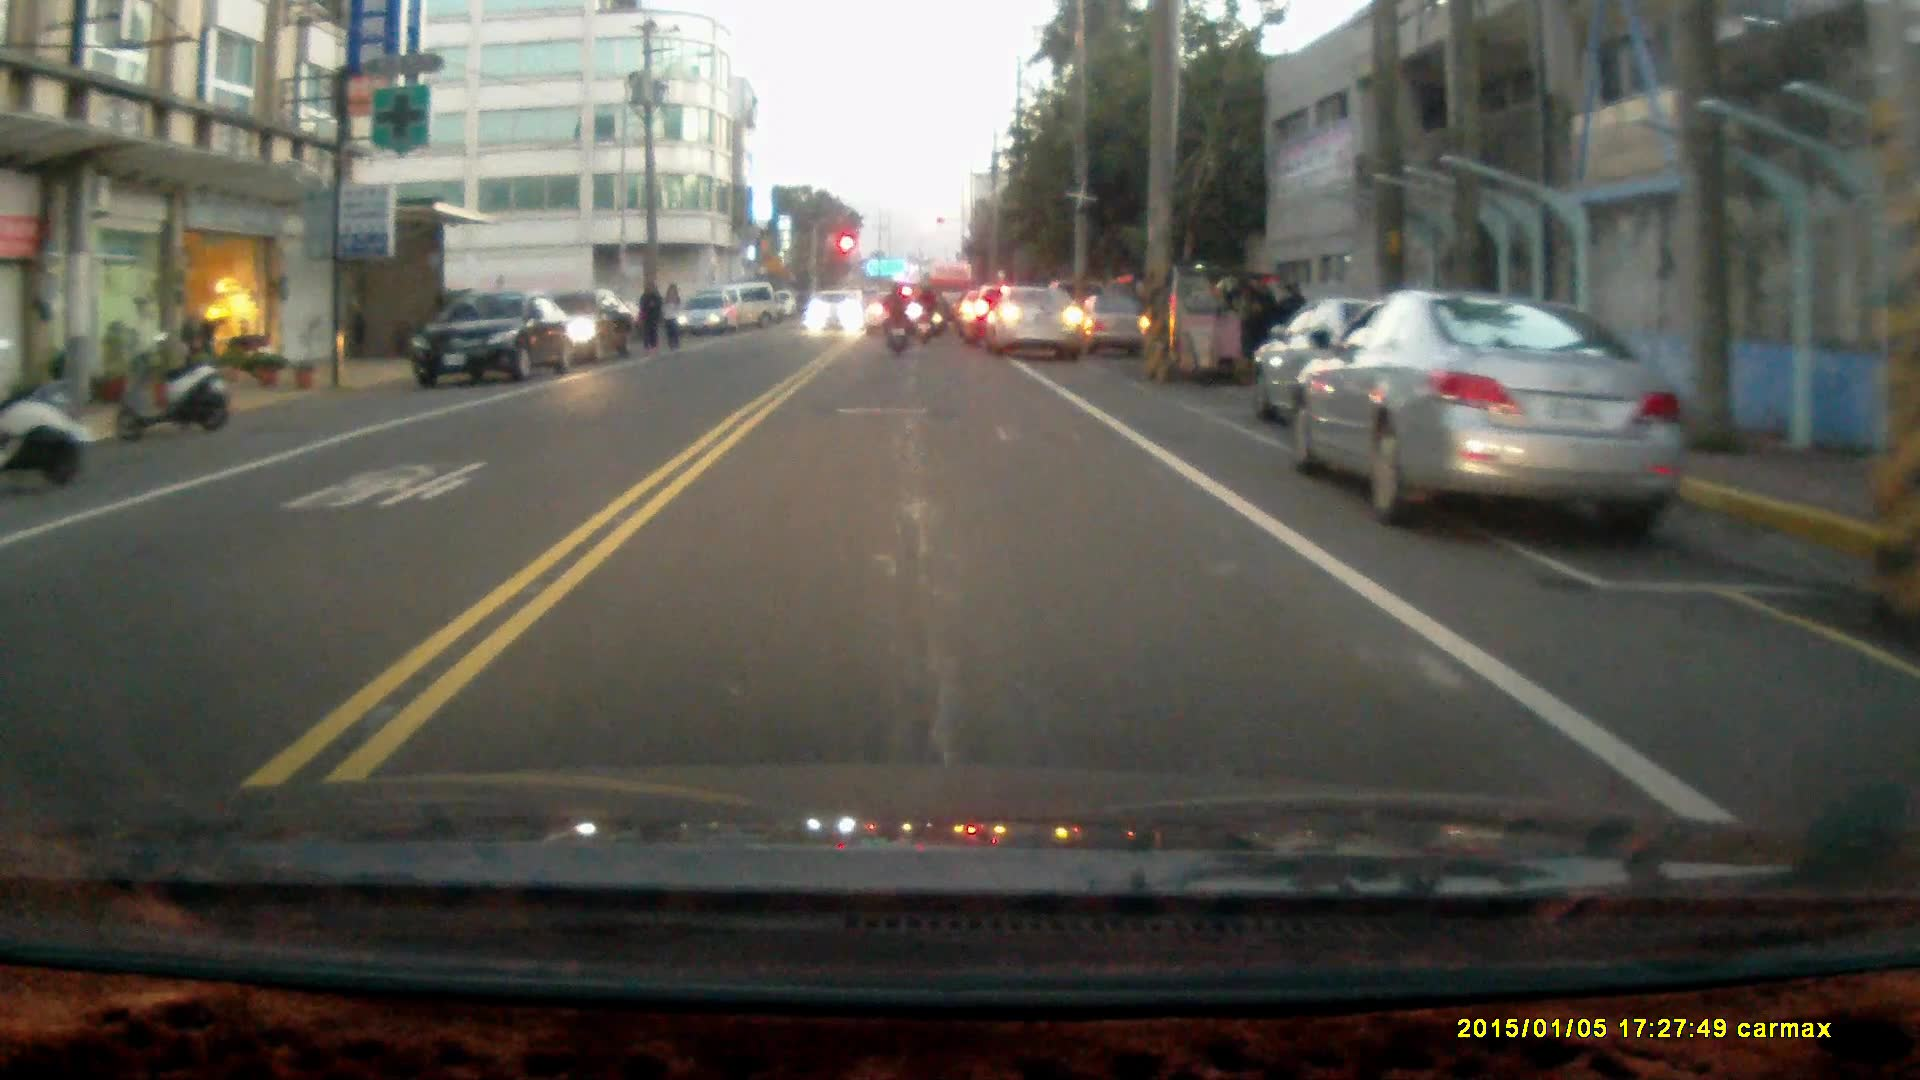pedestrian: (636, 278, 665, 358), (660, 281, 681, 357)
rider: (879, 280, 911, 356), (912, 281, 940, 346)
vehicle: (1290, 292, 1684, 541), (416, 287, 579, 389), (1126, 269, 1267, 386), (988, 285, 1089, 363), (805, 293, 863, 340)
